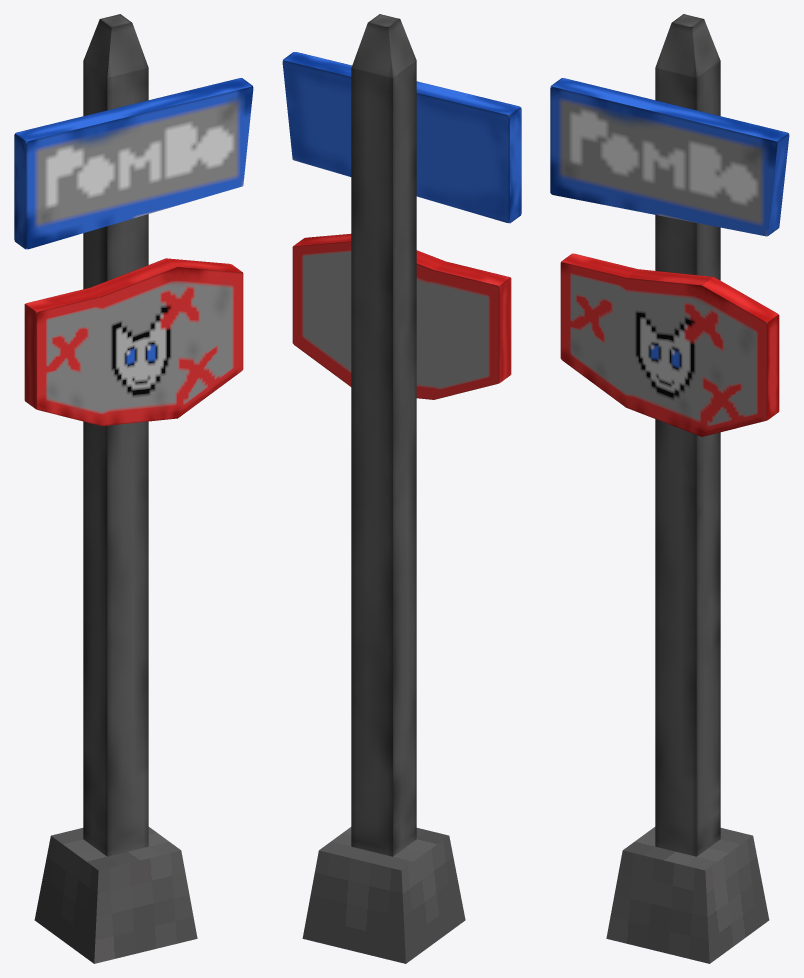
File: Placa.fbx
3 renders of one model, left to right at view 1: azimuth 30°, elevation 25°; view 2: azimuth 150°, elevation 25°; view 3: azimuth 330°, elevation 25°, orthographic.
Visible parts, largest first — view 1: cuboid, cuboid_3, cuboid_2, cuboid_1; view 2: cuboid, cuboid_3, cuboid_2, cuboid_1; view 3: cuboid, cuboid_3, cuboid_2, cuboid_1.
Part boxes in pixels (left/top/right/bottom): cuboid: left=83, top=14, right=148, bottom=856; cuboid_3: left=24, top=258, right=243, bottom=426; cuboid_2: left=14, top=78, right=253, bottom=249; cuboid_1: left=34, top=827, right=197, bottom=963; cuboid: left=351, top=14, right=416, bottom=856; cuboid_3: left=292, top=234, right=511, bottom=399; cuboid_2: left=282, top=52, right=521, bottom=223; cuboid_1: left=302, top=827, right=465, bottom=963; cuboid: left=655, top=14, right=720, bottom=856; cuboid_3: left=560, top=253, right=779, bottom=436; cuboid_2: left=550, top=78, right=789, bottom=236; cuboid_1: left=606, top=827, right=769, bottom=963.
Bounding box in the file's own units: 34.38 × 131 × 15.62.
Materials: 4 (4 with a texture image).
